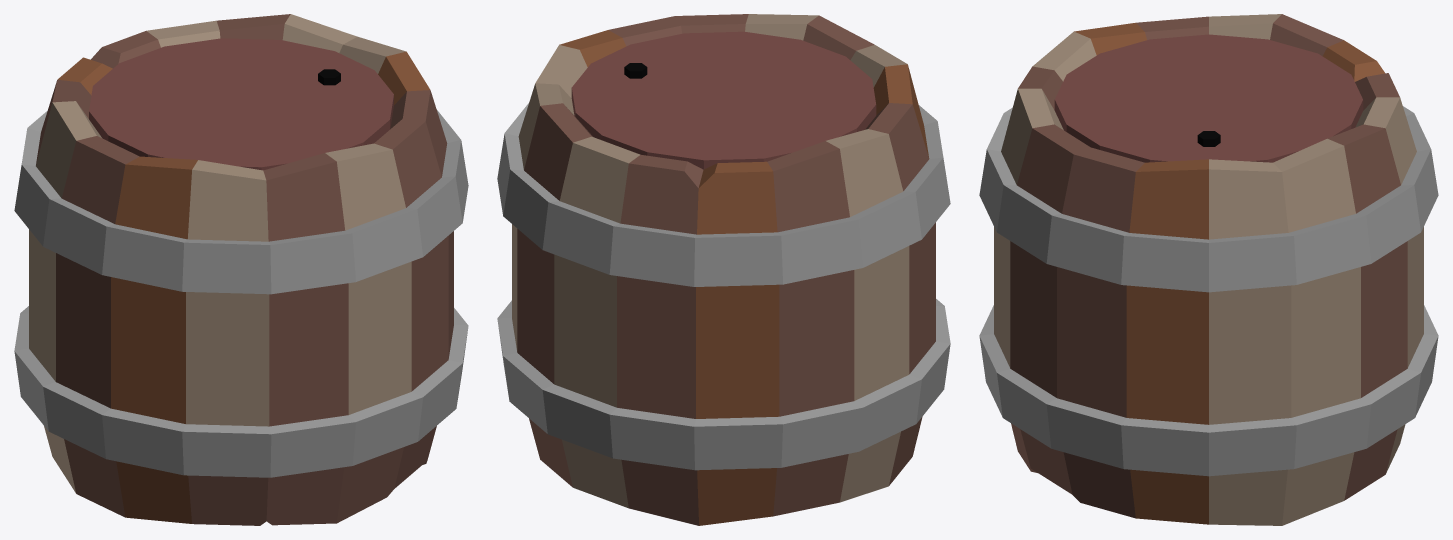
Rendered from Barrel.fbx.
The picture shows the model from 3 angles, left to right: view 1: azimuth 30°, elevation 25°; view 2: azimuth 150°, elevation 25°; view 3: azimuth 270°, elevation 25°; orthographic projection.
Parts seen in each view (by area): view 1: Cylinder; view 2: Cylinder; view 3: Cylinder.
Boxes of the visible parts, <box> form: Cylinder: <box>14,14,468,525</box>; Cylinder: <box>497,14,950,525</box>; Cylinder: <box>979,14,1438,525</box>.
Size of the model in its own units: 240 by 209 by 240.
